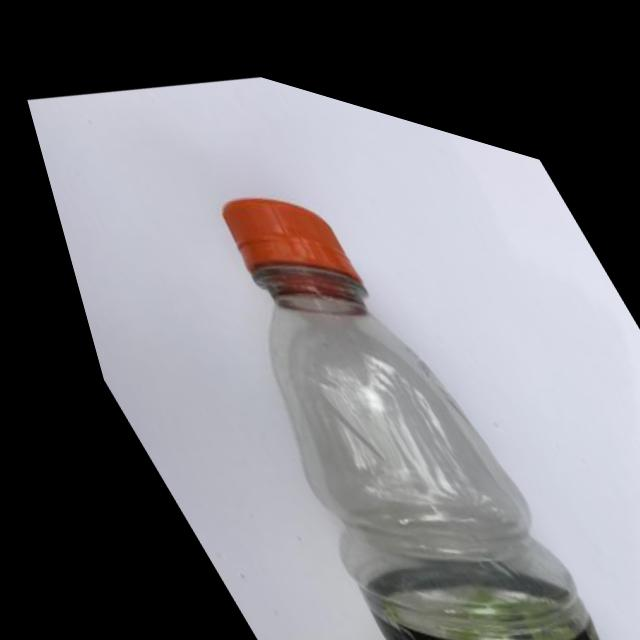plastic: (40, 42, 640, 640)
